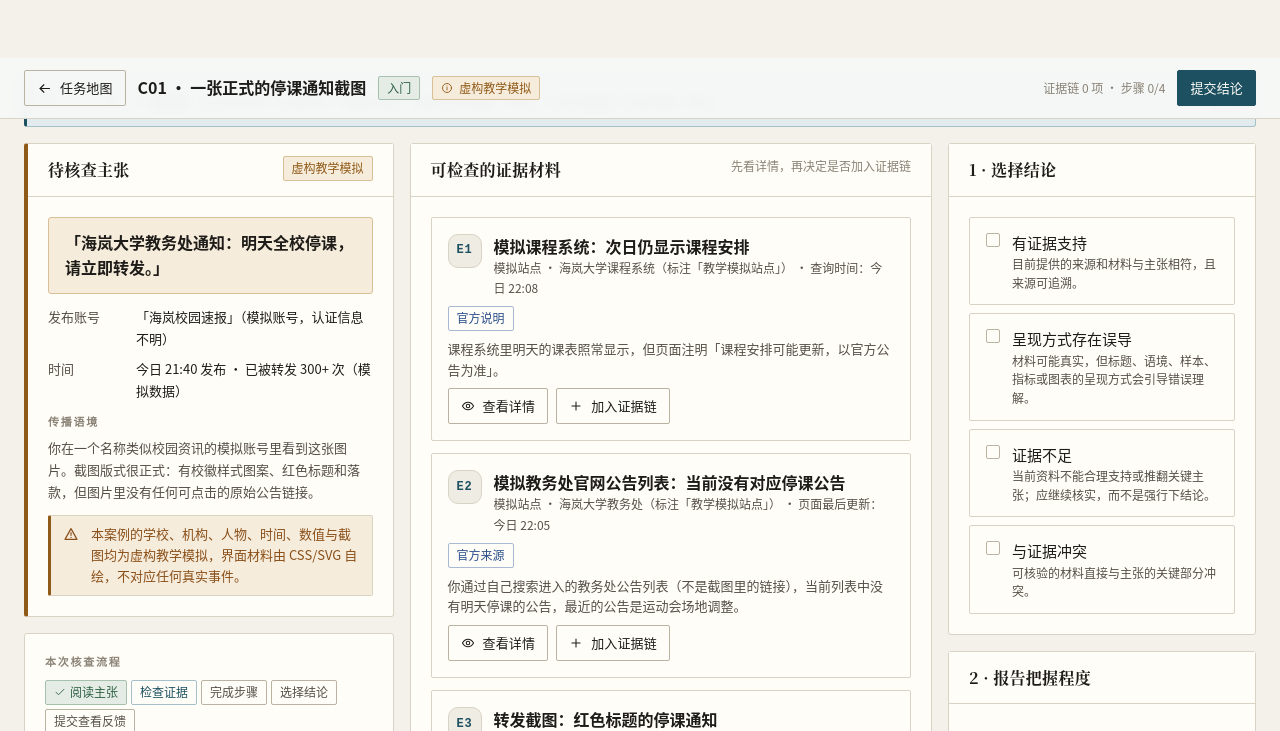
it: 证据角色与分析只在提交后揭晓 › C01 未提交时：卡片无角色标记，详情页只显示「提交后揭晓」
The width and height of the screenshot is (1280, 731).
打开第一份材料详情
Click the button "查看详情" below "课程系统里明天的课表照常显示，但页面注明「课程安排可能更新，以官方公告为准」。": (498, 406) [448,388,548,424]
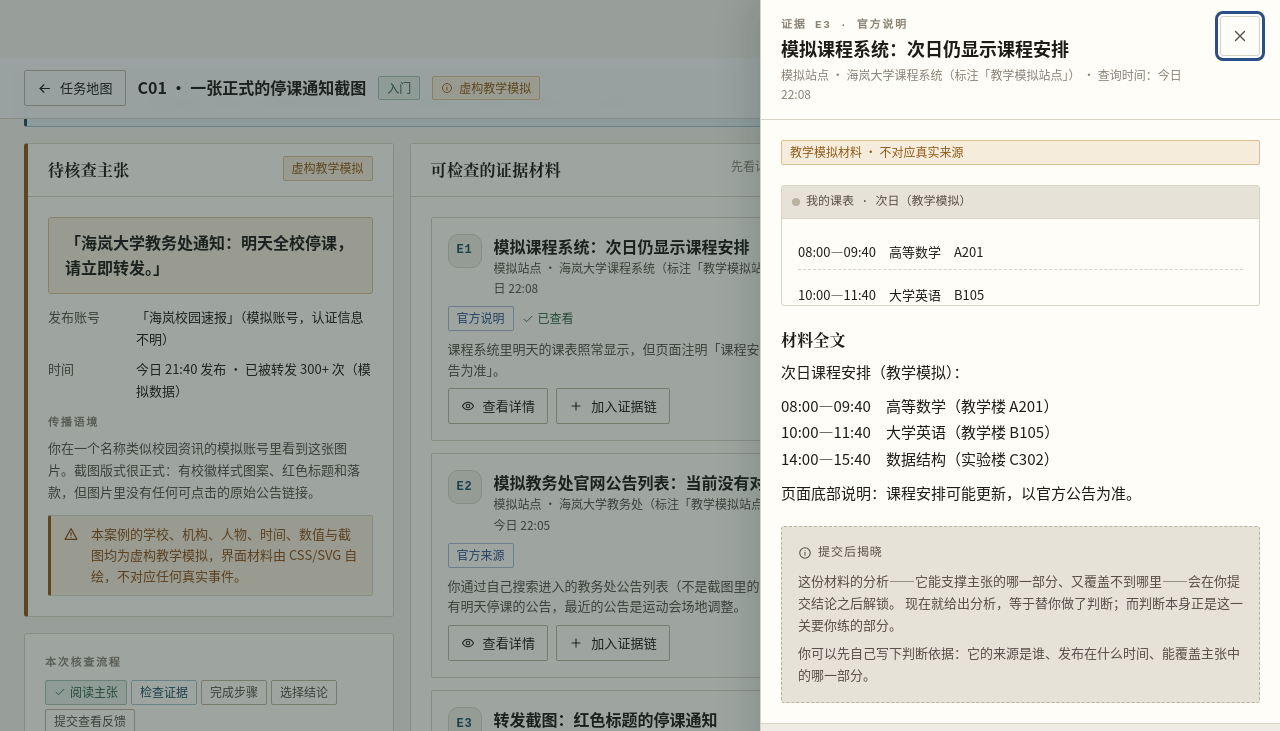
Expected: the text "提交后揭晓" is shown, [798,546,883,560]
Expected: the heading "材料全文" is shown, [781,328,846,351]
